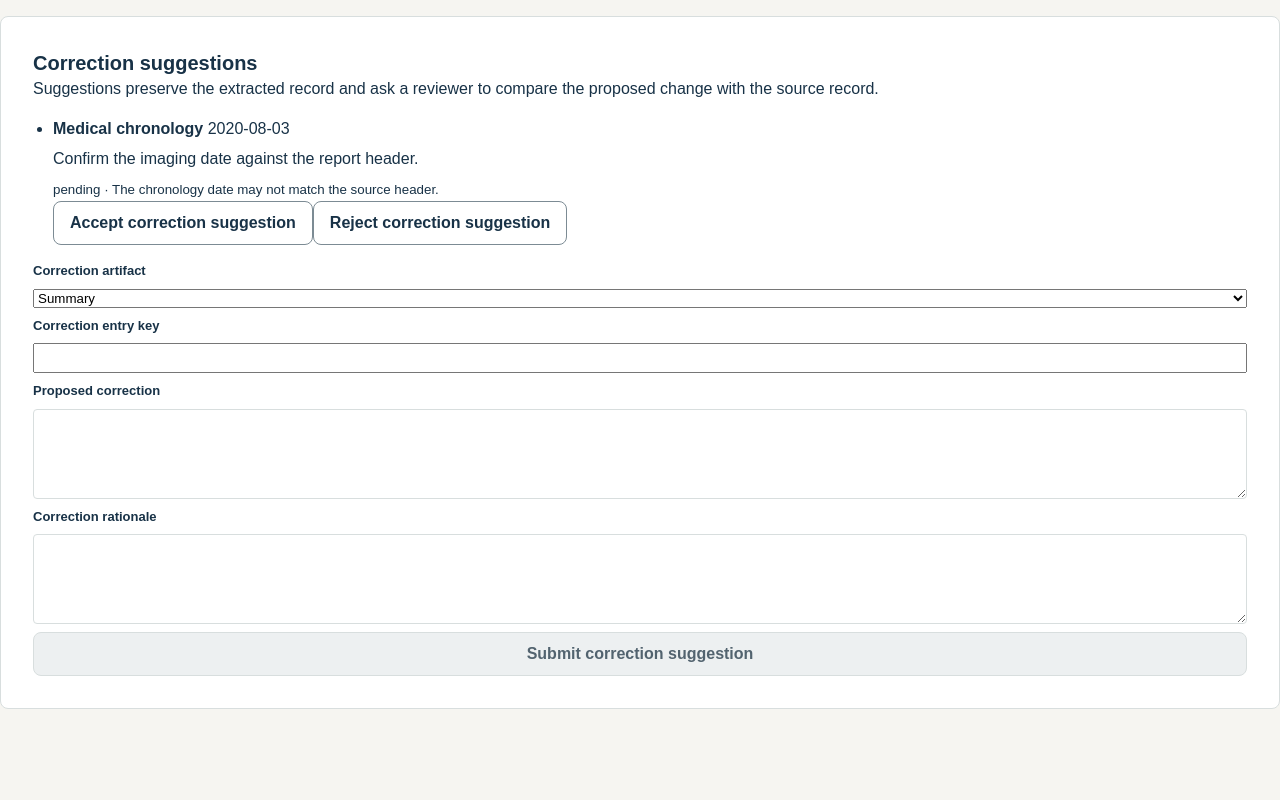
Scenario: accepts and rejects pending correction suggestions from the correction desk
Check: the text "Confirm the imaging date against the report header." is shown, box [53,150,419,167]
Click the button "Accept correction suggestion". click: (183, 223)
box: [53,201,313,245]
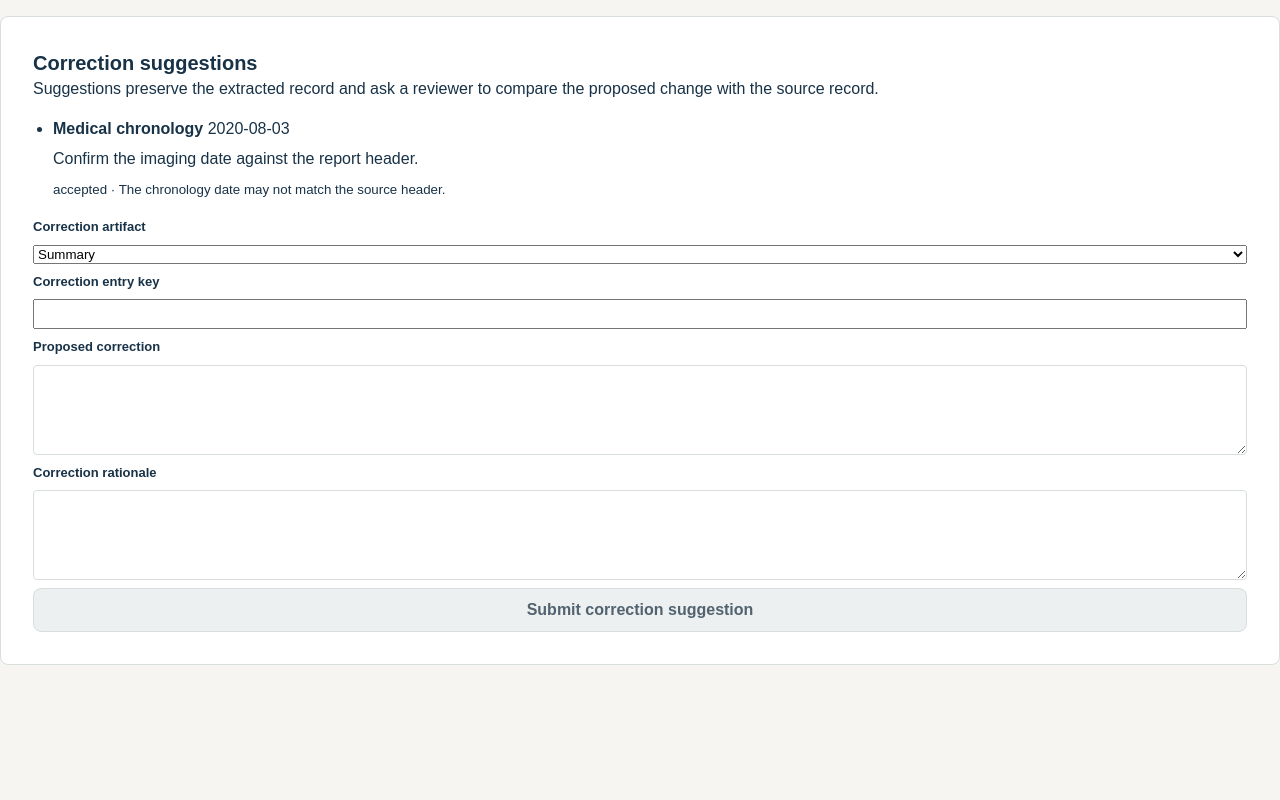
Check: the text "accepted ·" is shown, box [53,182,446,197]
Check: the button "Reject correction suggestion" is gone
